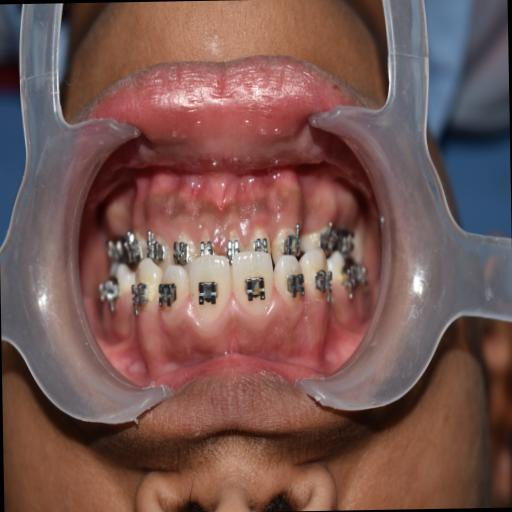correct_brace: (196, 276, 220, 310), (282, 270, 306, 304), (242, 273, 267, 304), (155, 280, 178, 308)
incorrect_brace: (274, 252, 308, 327), (154, 262, 190, 328)
